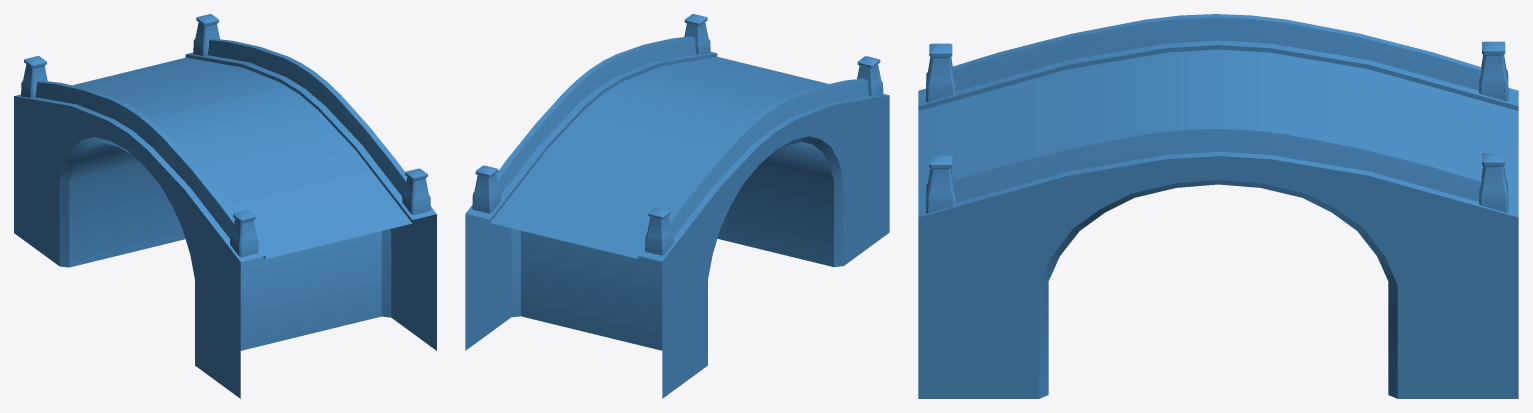
Rendered from Bridge_2x_Level.fbx.
3 renders of one model, left to right at view 1: azimuth 30°, elevation 25°; view 2: azimuth 150°, elevation 25°; view 3: azimuth 270°, elevation 25°, orthographic. The views are drawn at different scales.
Visible parts, largest first — view 1: Bridge_2x_Level; view 2: Bridge_2x_Level; view 3: Bridge_2x_Level.
Part boxes in pixels (x1,y1,x2,y2): Bridge_2x_Level: [14, 14, 436, 398]; Bridge_2x_Level: [465, 14, 889, 398]; Bridge_2x_Level: [918, 14, 1518, 398].
Bounding box in the file's own units: 900 × 873 × 1800.
